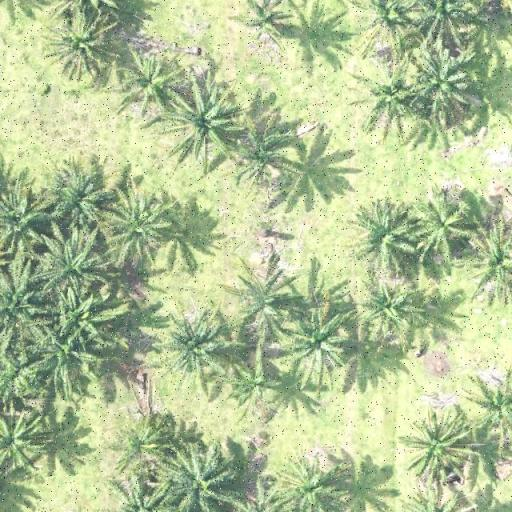Ganoderma: (414, 426, 464, 472), (58, 24, 104, 66), (130, 63, 172, 106)
